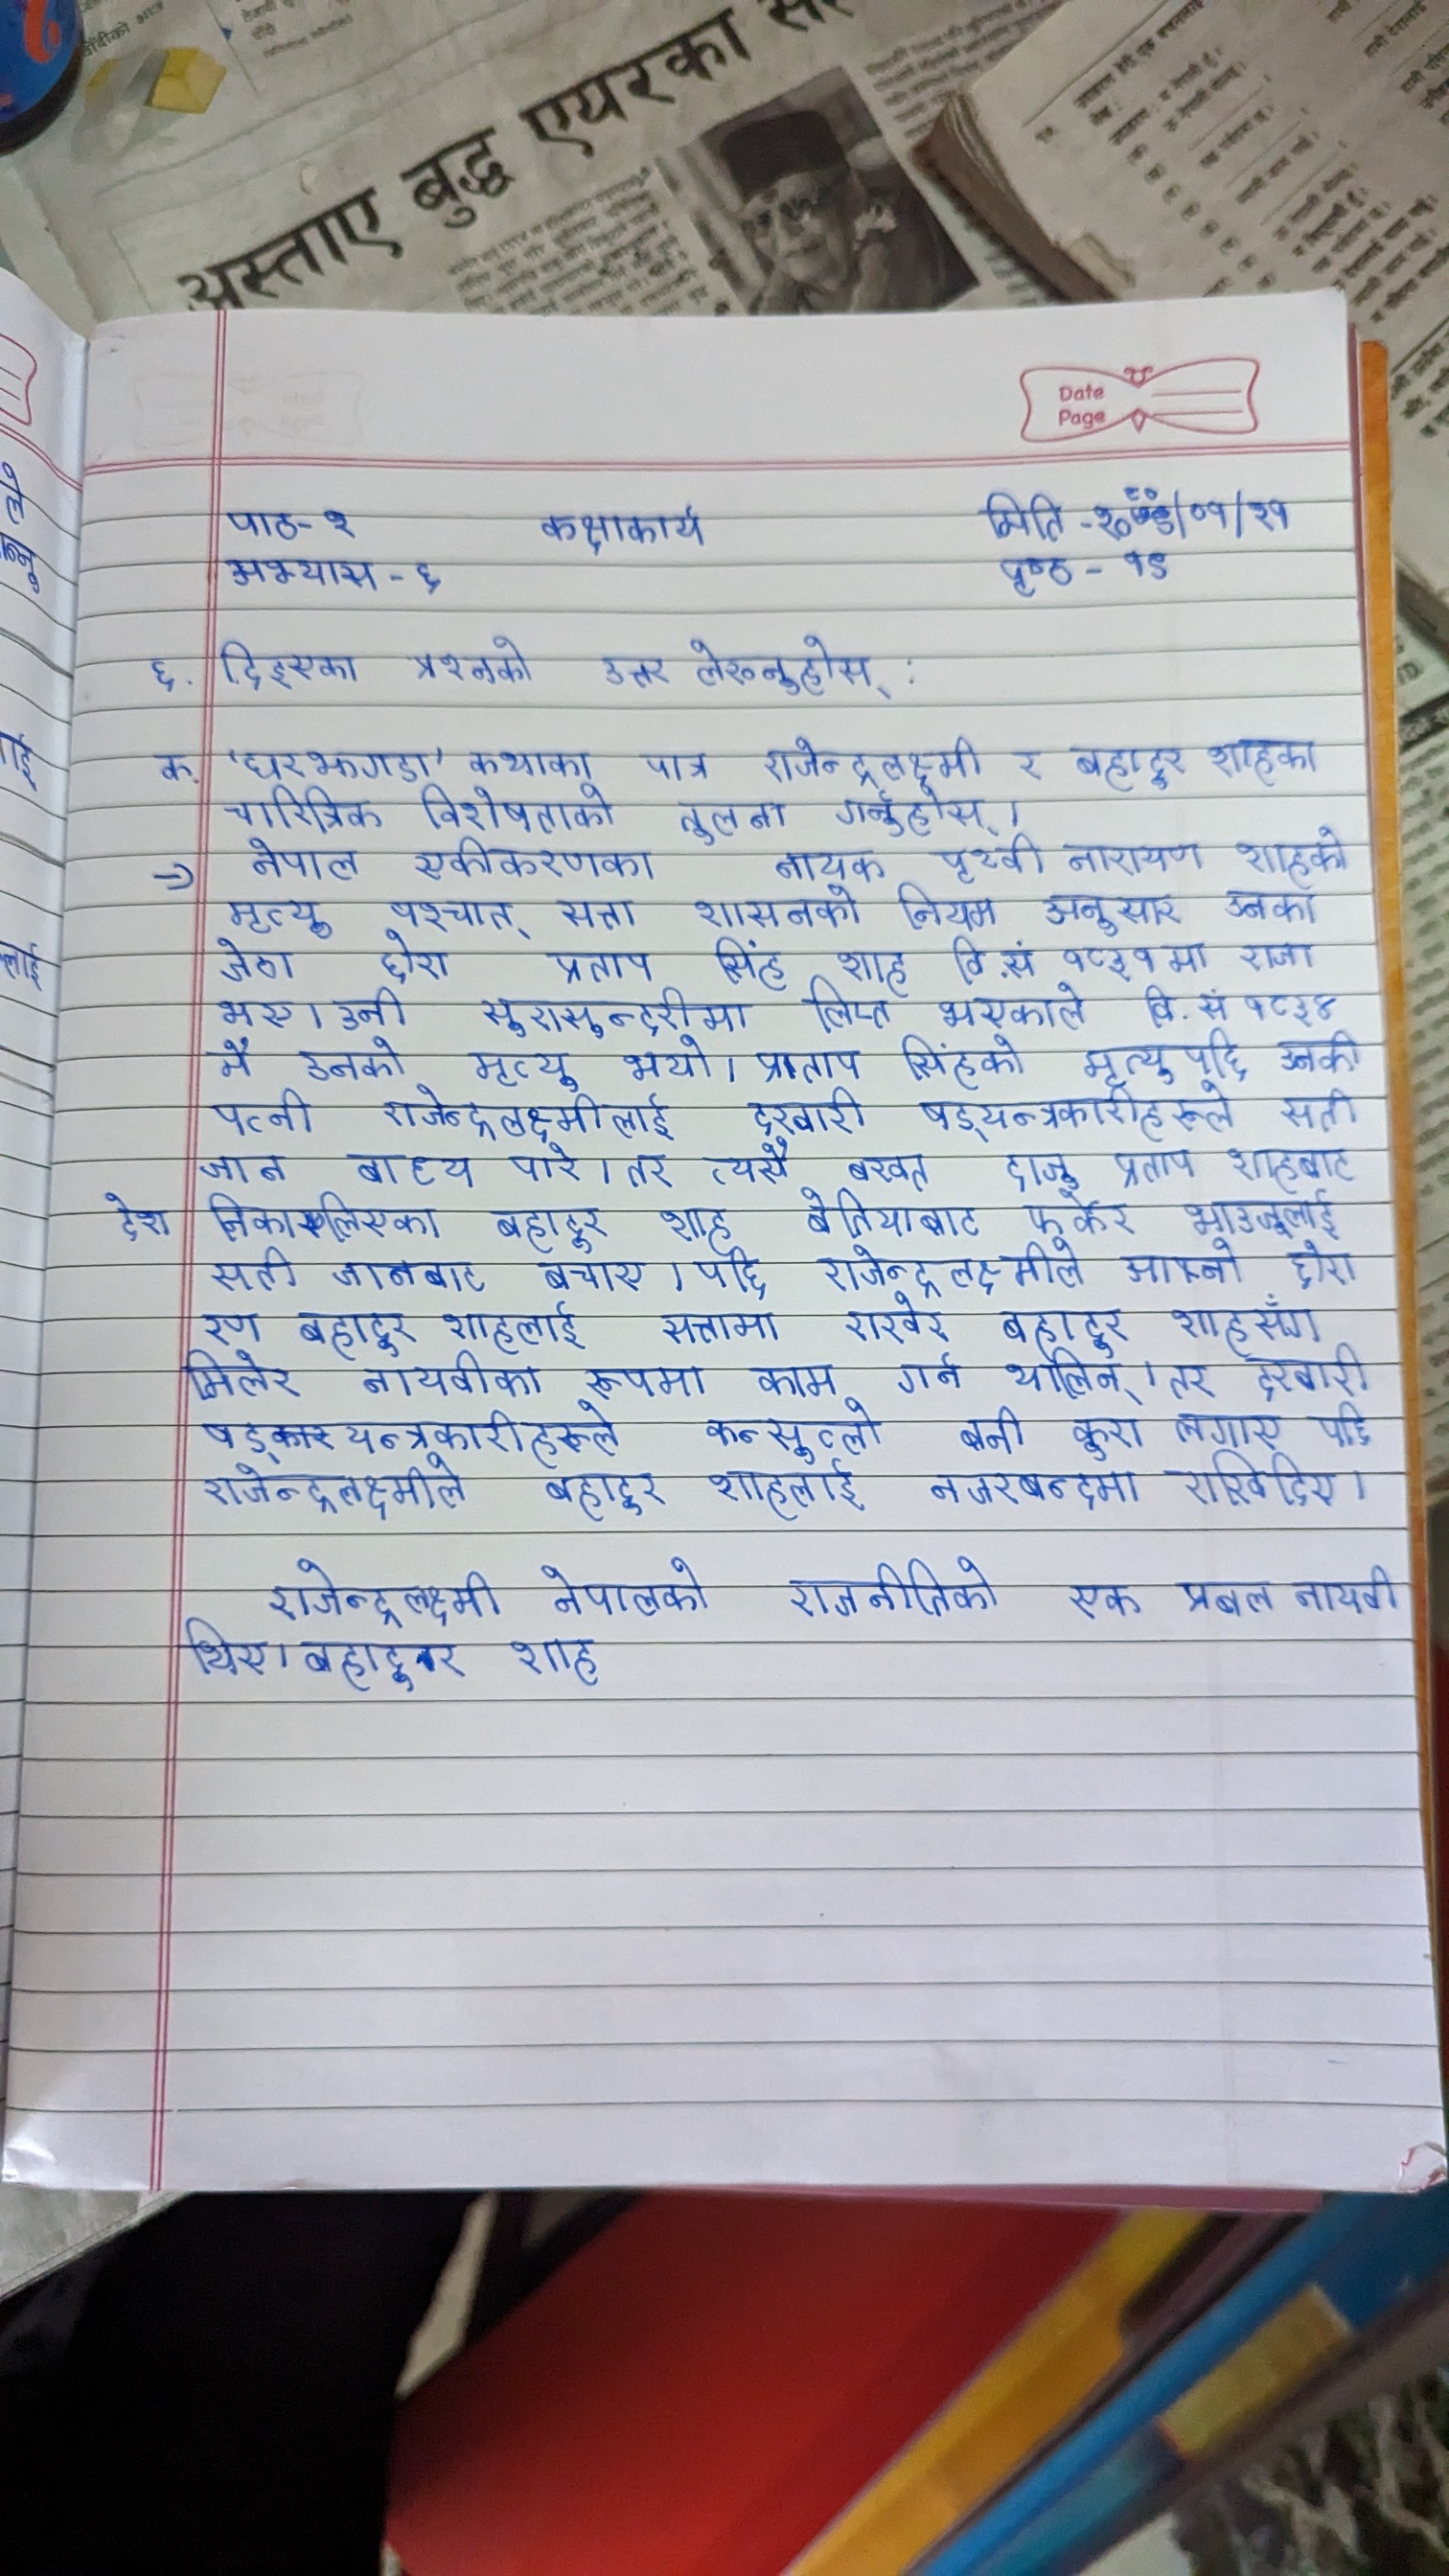text: (771, 1546, 1005, 1642), (196, 1405, 617, 1456), (202, 1458, 474, 1523), (257, 1559, 504, 1626), (915, 1088, 1238, 1139), (686, 619, 892, 699), (810, 1240, 1088, 1293), (380, 1093, 671, 1141), (198, 1191, 446, 1242), (478, 991, 750, 1037), (754, 732, 998, 784), (531, 1552, 720, 1617), (525, 497, 722, 556), (697, 1458, 870, 1523), (409, 835, 655, 881), (924, 1467, 1143, 1516), (1164, 1453, 1343, 1513), (294, 1637, 464, 1698), (704, 1403, 888, 1456), (407, 786, 619, 830), (796, 1189, 984, 1238), (1085, 1030, 1247, 1085), (400, 626, 536, 690), (235, 738, 430, 782), (1166, 1292, 1322, 1346), (211, 635, 361, 692), (824, 787, 996, 837), (685, 885, 869, 931), (1171, 1189, 1346, 1237), (531, 1467, 672, 1525), (359, 1355, 543, 1399), (225, 786, 391, 833), (1286, 1560, 1415, 1621), (1205, 725, 1323, 787), (439, 1300, 591, 1348), (936, 982, 1086, 1030), (1063, 835, 1212, 881), (1235, 826, 1359, 881), (1244, 1348, 1375, 1399), (1065, 740, 1187, 793), (488, 1200, 612, 1251), (672, 789, 791, 842), (223, 552, 384, 591), (1001, 1350, 1132, 1398), (1040, 890, 1187, 932), (741, 1085, 867, 1134), (902, 1035, 1026, 1085), (180, 1345, 290, 1399), (1221, 1143, 1359, 1185), (329, 1256, 487, 1293), (993, 1307, 1139, 1346), (198, 1085, 313, 1134), (294, 1307, 418, 1353), (1116, 1240, 1244, 1284), (180, 1626, 278, 1683), (345, 1146, 479, 1187), (241, 837, 359, 883), (971, 487, 1069, 541), (1166, 1571, 1277, 1619), (1021, 1191, 1141, 1235), (469, 1044, 584, 1090), (502, 1637, 605, 1688), (931, 839, 1049, 881), (543, 941, 662, 984), (844, 1295, 952, 1341), (295, 1037, 409, 1079), (649, 1309, 791, 1343), (386, 895, 518, 931), (586, 1362, 711, 1399), (462, 743, 600, 777), (708, 936, 791, 991), (1171, 1407, 1283, 1447), (994, 548, 1076, 603), (1062, 1571, 1143, 1626), (704, 1136, 793, 1185), (1272, 1030, 1366, 1076), (205, 1246, 299, 1292), (1277, 1085, 1364, 1134), (616, 1039, 717, 1081), (226, 895, 341, 932), (212, 941, 304, 987), (103, 1189, 177, 1246), (803, 989, 895, 1033), (752, 1047, 867, 1083), (899, 888, 998, 929), (327, 985, 416, 1030), (775, 847, 890, 881), (692, 1247, 770, 1297), (1286, 1240, 1369, 1286), (1067, 1412, 1146, 1460), (1226, 888, 1323, 927), (189, 1148, 295, 1184), (538, 1260, 648, 1293), (1244, 985, 1341, 1023), (752, 1355, 837, 1398), (218, 502, 313, 540), (556, 892, 646, 931), (888, 1350, 964, 1396), (957, 1407, 1033, 1453), (1118, 547, 1192, 593), (1001, 1148, 1086, 1187), (1309, 1401, 1378, 1449), (1109, 1146, 1201, 1182), (379, 939, 455, 982), (658, 1201, 734, 1244), (1056, 941, 1152, 975), (837, 945, 911, 987), (143, 738, 195, 796), (591, 651, 669, 688), (506, 1143, 580, 1182), (846, 1154, 934, 1185), (635, 745, 709, 782), (1237, 939, 1320, 971), (405, 550, 453, 605), (1162, 1357, 1217, 1401), (216, 998, 295, 1028), (202, 1309, 271, 1343), (1247, 494, 1306, 533), (621, 1145, 676, 1185), (1187, 485, 1231, 534), (317, 501, 363, 541), (140, 649, 179, 697), (1168, 938, 1214, 977), (209, 1039, 258, 1074), (1010, 745, 1053, 784), (1090, 504, 1131, 541), (1141, 985, 1178, 1026), (950, 934, 985, 977), (1003, 938, 1039, 975), (1198, 987, 1231, 1023), (1123, 487, 1166, 502)
